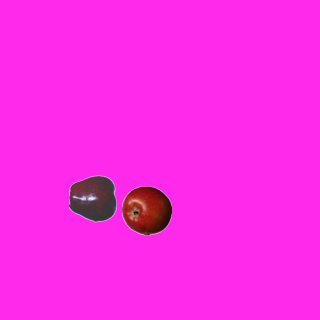Apple Braeburn: (121, 185, 171, 235)
Apple Red Delicious: (68, 173, 118, 223)
